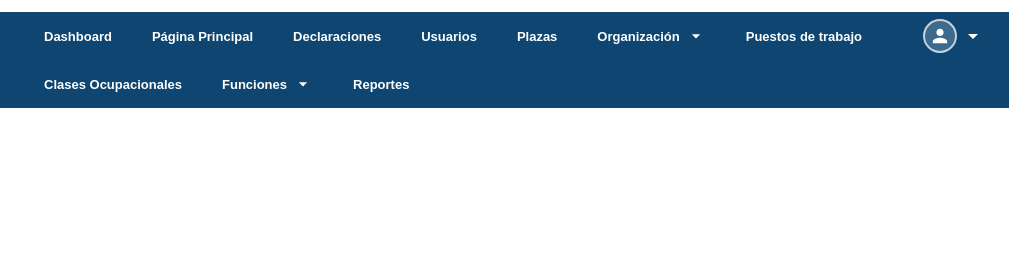
Navbar › renderiza todos los items del submenu de Organización para administradores
This screenshot has width=1024, height=260.
Click the button "Organización": point(652, 36) [577, 12, 726, 60]
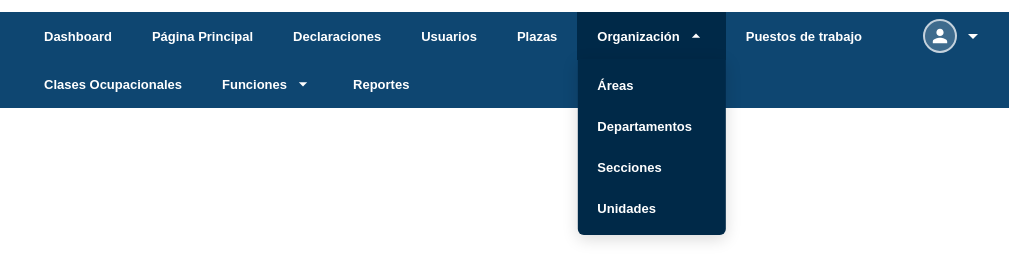
Now the text "Áreas" is shown, box [597, 79, 634, 92]
Now the text "Departamentos" is shown, box [597, 120, 692, 133]
Now the text "Secciones" is shown, box [597, 161, 662, 174]
